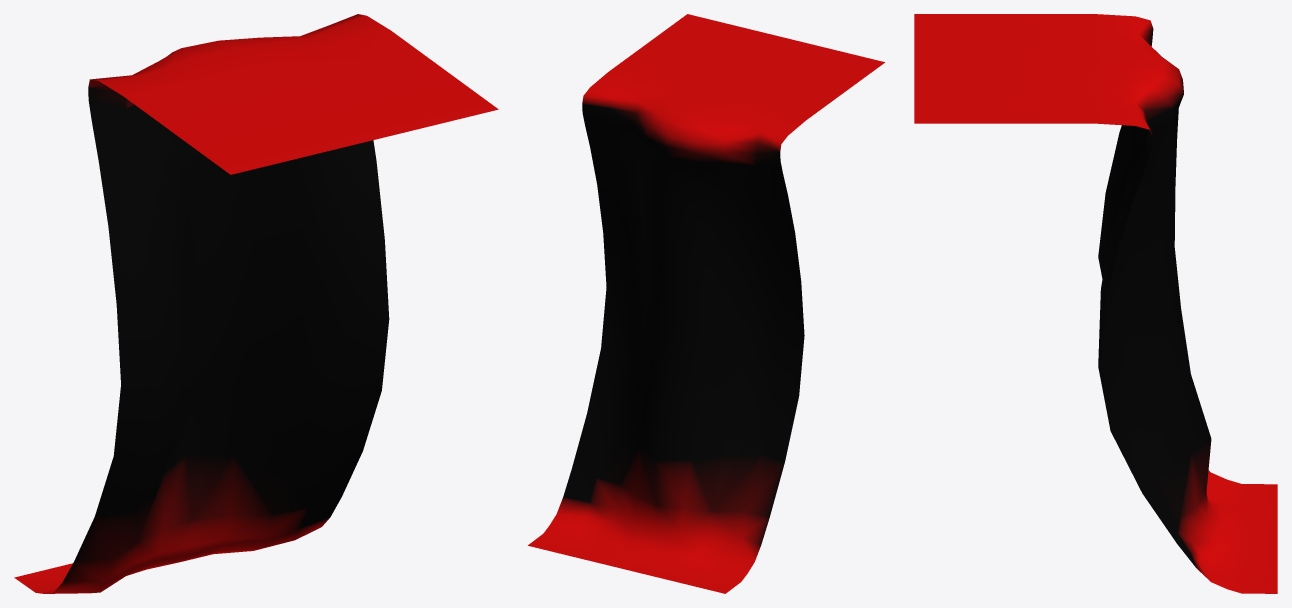
The model's file is GroundCliff00D 2M Background.fbx.
3 renders of one model, left to right at view 1: azimuth 30°, elevation 25°; view 2: azimuth 150°, elevation 25°; view 3: azimuth 270°, elevation 25°, orthographic. The views are drawn at different scales.
Parts seen in each view (by area): view 1: GroundCliff00D 2M Background; view 2: GroundCliff00D 2M Background; view 3: GroundCliff00D 2M Background.
Boxes of the visible parts, left/top/right/bottom form: GroundCliff00D 2M Background: left=14, top=14, right=498, bottom=593; GroundCliff00D 2M Background: left=528, top=14, right=884, bottom=593; GroundCliff00D 2M Background: left=914, top=14, right=1277, bottom=593.
Bounding box in the file's own units: 1 × 2 × 1.4.
